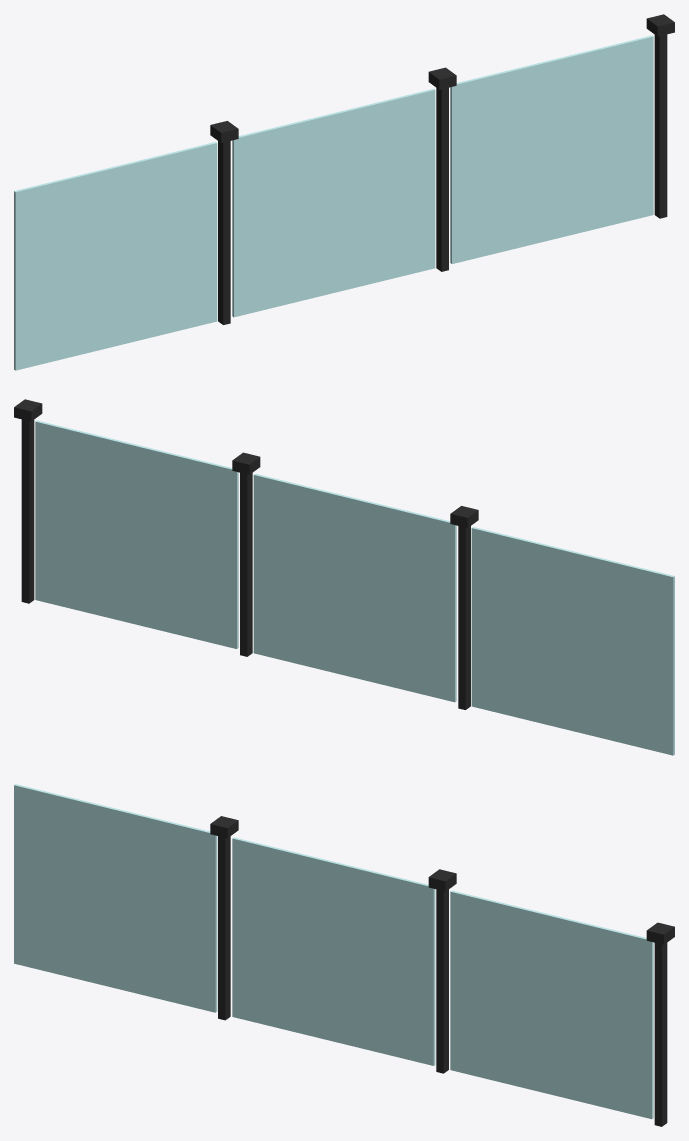
Rendered from Balcony.007.fbx.
3 views of the same model, one above another, from view 1: azimuth 30°, elevation 25°; view 2: azimuth 150°, elevation 25°; view 3: azimuth 330°, elevation 25° (orthographic).
Parts seen in each view (by area): view 1: Balcony.007; view 2: Balcony.007; view 3: Balcony.007.
Boxes of the visible parts, left/top/right/bottom form: Balcony.007: left=14, top=14, right=674, bottom=370; Balcony.007: left=14, top=399, right=674, bottom=755; Balcony.007: left=14, top=784, right=674, bottom=1126.
Size of the model in its own units: 1532 by 437 by 44.44.
